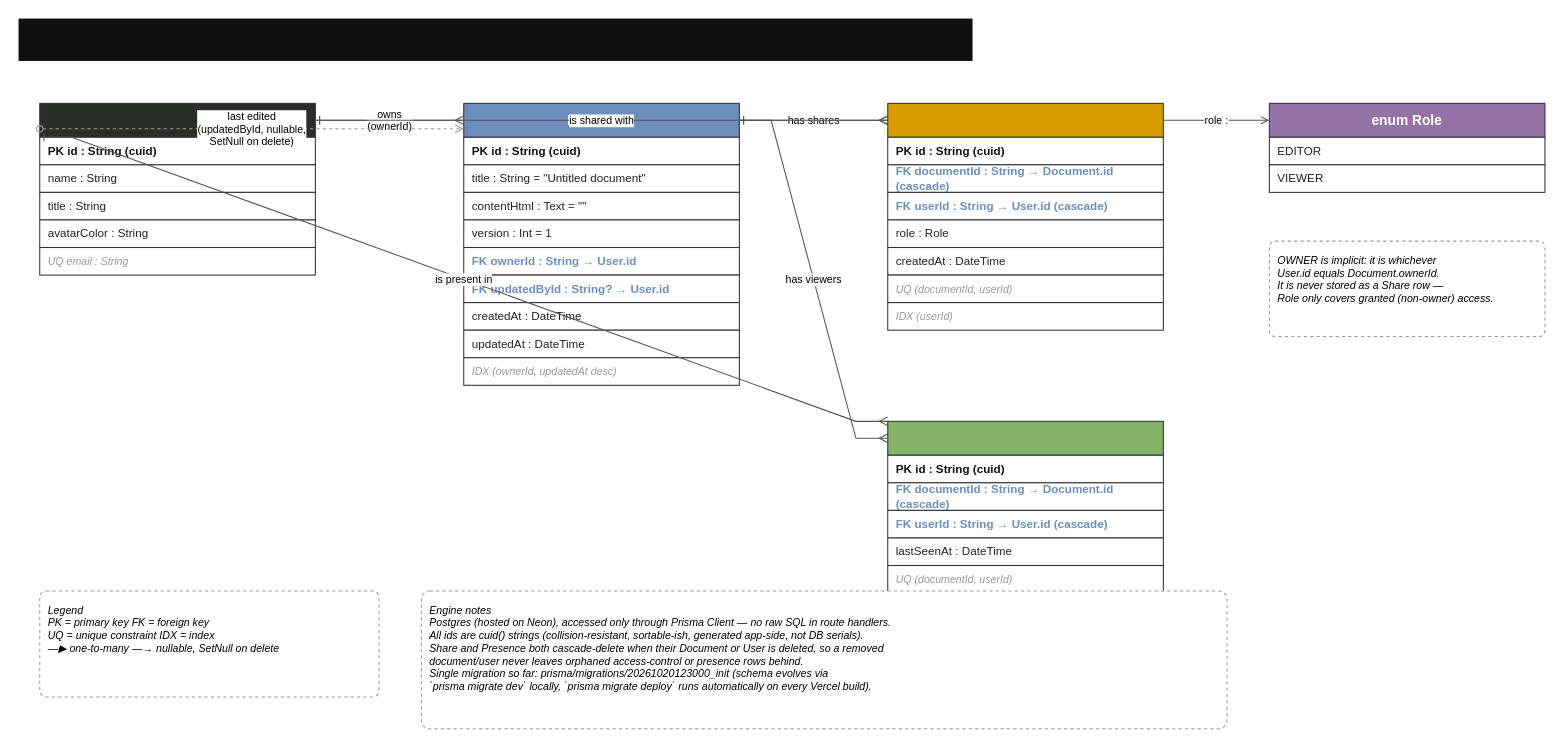
Some shapes in this 1563 by 747 pixel diagram are drawn without their labels. The centre of each missing label's shape, as x and y in pixels:
"Draftroom — Database Schema (PostgreSQL via Prisma ORM)" belongs at point 495,39.
"Presence" belongs at point 1025,437.
"Share" belongs at point 1025,119.
"User" belongs at point 177,119.
